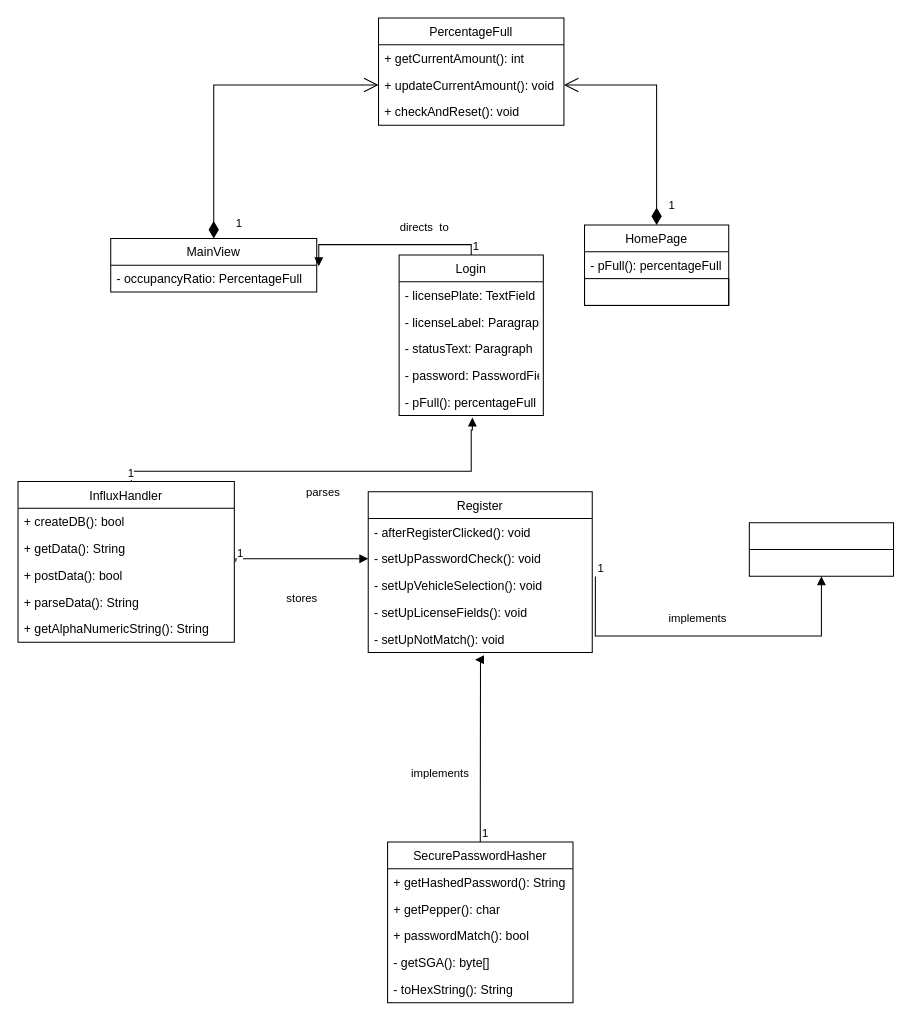
The diagram is 912 pixels wide and 1024 high, and some of its shapes have lost their labels. Each missing label, with the centre of its shape:
"+ isGreen(): bool" goes at (x=656, y=291).
"PasswordException" goes at (x=821, y=549).
